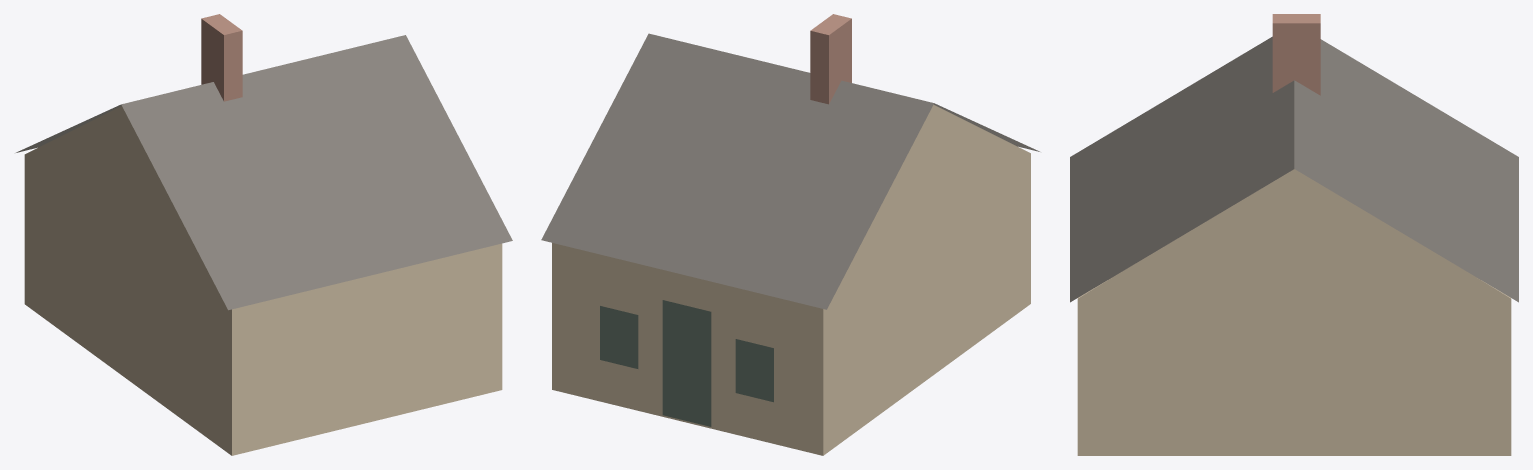
File: recon_1835_south_d3_022__recommended_1835.glb
The picture shows the model from 3 angles, left to right: view 1: azimuth 30°, elevation 25°; view 2: azimuth 150°, elevation 25°; view 3: azimuth 270°, elevation 25°; orthographic projection. The views are drawn at different scales.
Visible parts, largest first — view 1: recon_1835_south_d3_022__recommended_1835; view 2: recon_1835_south_d3_022__recommended_1835; view 3: recon_1835_south_d3_022__recommended_1835.
Boxes of the visible parts, x1,y1,x2,y2 form: recon_1835_south_d3_022__recommended_1835: (16, 14, 512, 455); recon_1835_south_d3_022__recommended_1835: (541, 14, 1039, 455); recon_1835_south_d3_022__recommended_1835: (1070, 14, 1518, 455).
Bounding box in the file's own units: 5.52 × 6.15 × 7.2.
